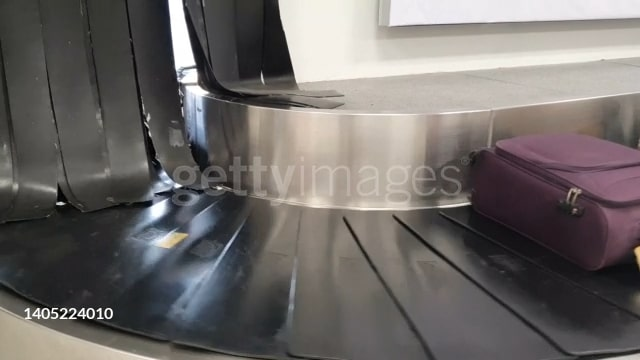baggage: (462, 122, 640, 280)
